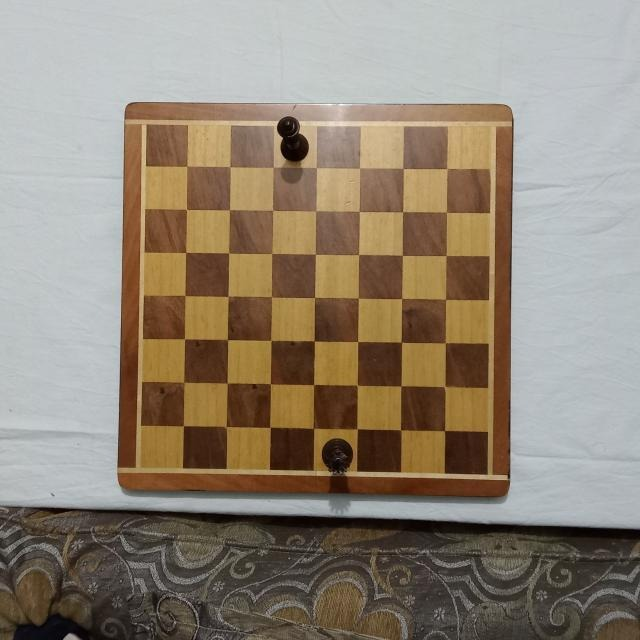black-king: (277, 112, 310, 164)
black-queen: (321, 436, 355, 475)
